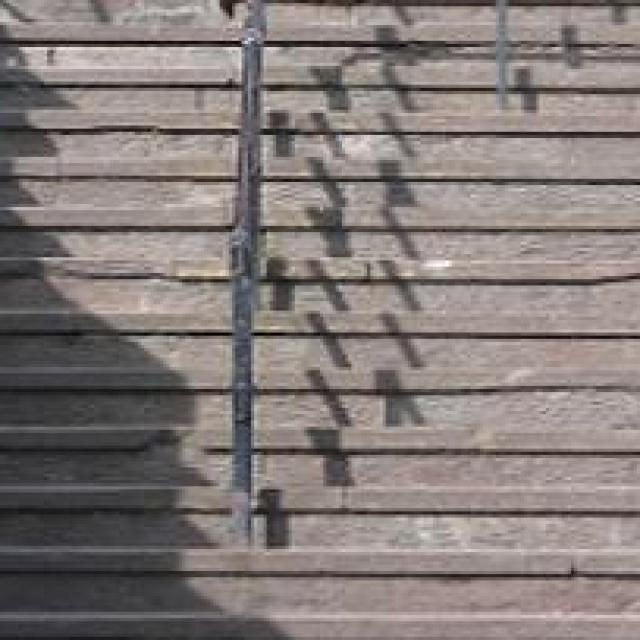upstair: (1, 16, 625, 509)
